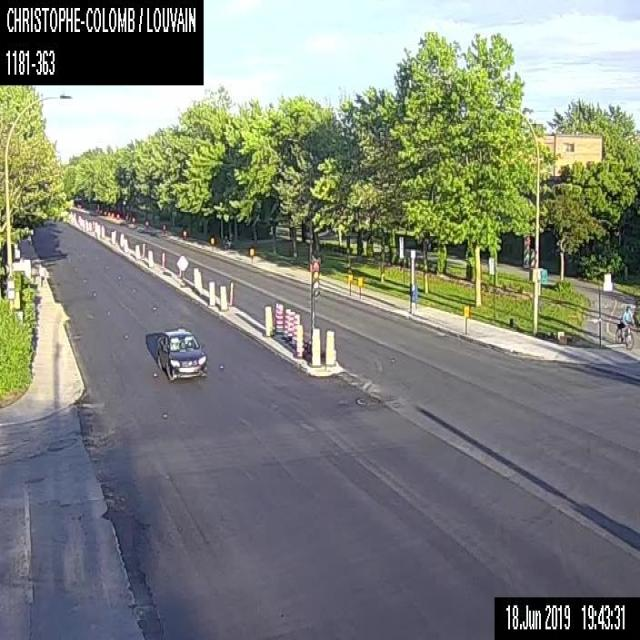construction: (309, 326, 321, 366), (324, 328, 336, 366), (294, 323, 304, 357), (263, 304, 273, 336), (218, 282, 228, 312), (274, 301, 283, 334), (287, 309, 295, 345), (292, 314, 300, 346), (207, 279, 216, 306), (283, 307, 290, 339), (463, 304, 469, 334), (194, 270, 202, 292), (191, 265, 198, 289), (147, 248, 154, 267), (347, 272, 352, 296), (133, 243, 140, 259), (357, 276, 362, 298), (94, 223, 100, 240), (99, 222, 105, 238), (119, 232, 125, 248), (110, 230, 116, 246), (122, 237, 128, 252), (249, 247, 253, 265), (230, 281, 233, 305), (161, 251, 165, 267), (210, 236, 214, 252), (142, 241, 145, 257), (162, 222, 165, 236), (183, 228, 186, 241), (145, 219, 148, 232), (178, 268, 181, 277)
cyclist: (612, 303, 634, 352)
pedestrian: (38, 263, 46, 285)
vehicle: (156, 327, 207, 381)
